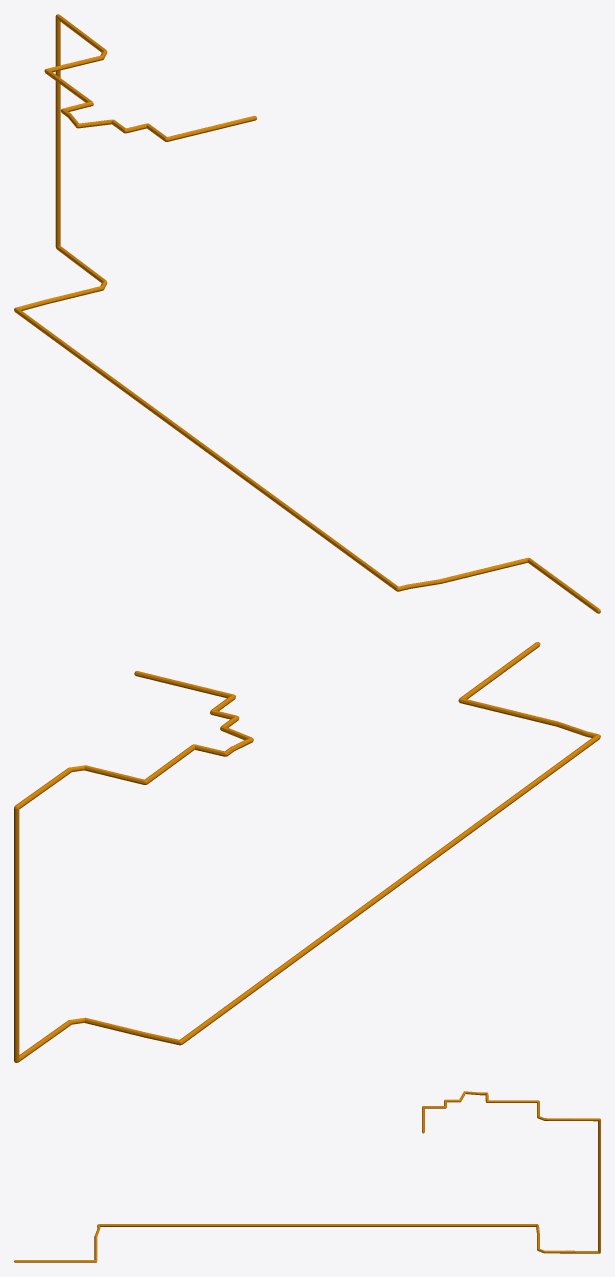
The picture shows the model from 3 angles, top to bottom: view 1: azimuth 30°, elevation 25°; view 2: azimuth 150°, elevation 25°; view 3: azimuth 270°, elevation 25°; orthographic projection. The views are drawn at different scales.
Bounding box in the file's own units: 658 × 1020 × 4015.
